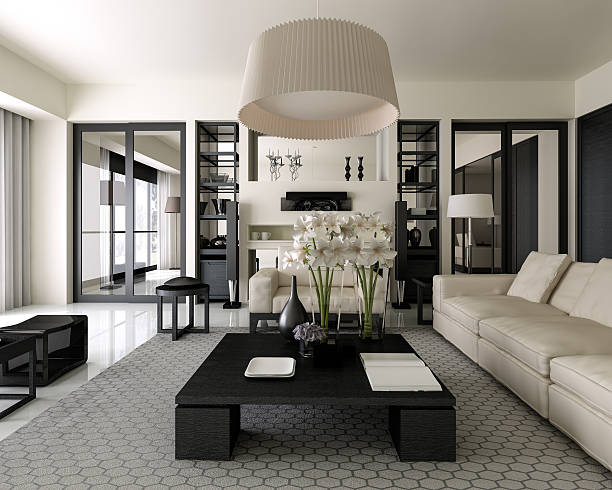chair: (247, 259, 389, 334)
floor lamp: (444, 192, 498, 272), (161, 196, 185, 277)
flower vase: (285, 213, 398, 343)
sofa: (430, 250, 612, 477)
table: (171, 329, 460, 464)
